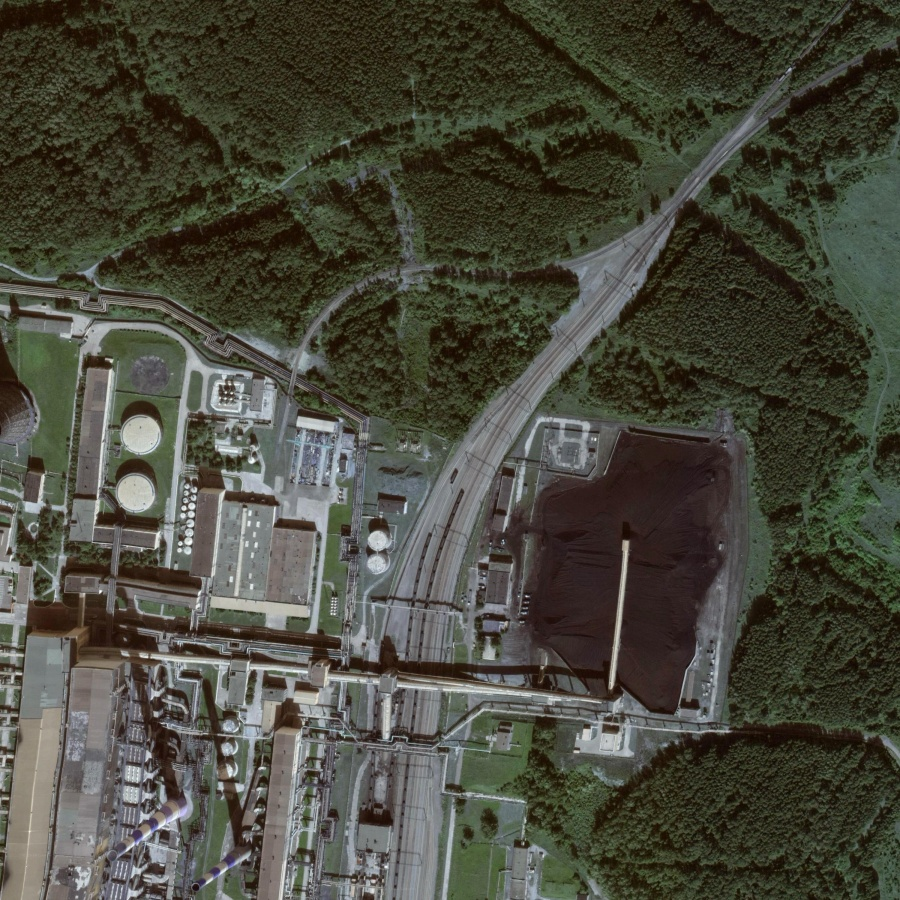PowerPlant: (462, 410, 732, 724)
